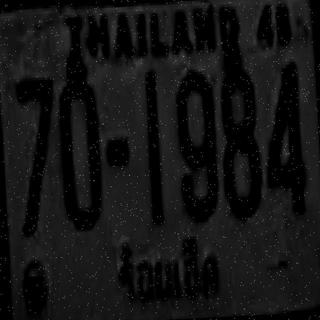N00: (56, 75, 102, 227)
N01: (142, 66, 163, 223)
N04: (261, 60, 306, 212)
N07: (14, 75, 60, 234)
N08: (216, 64, 261, 216)
N09: (173, 67, 218, 220)
P54: (108, 225, 227, 314)
